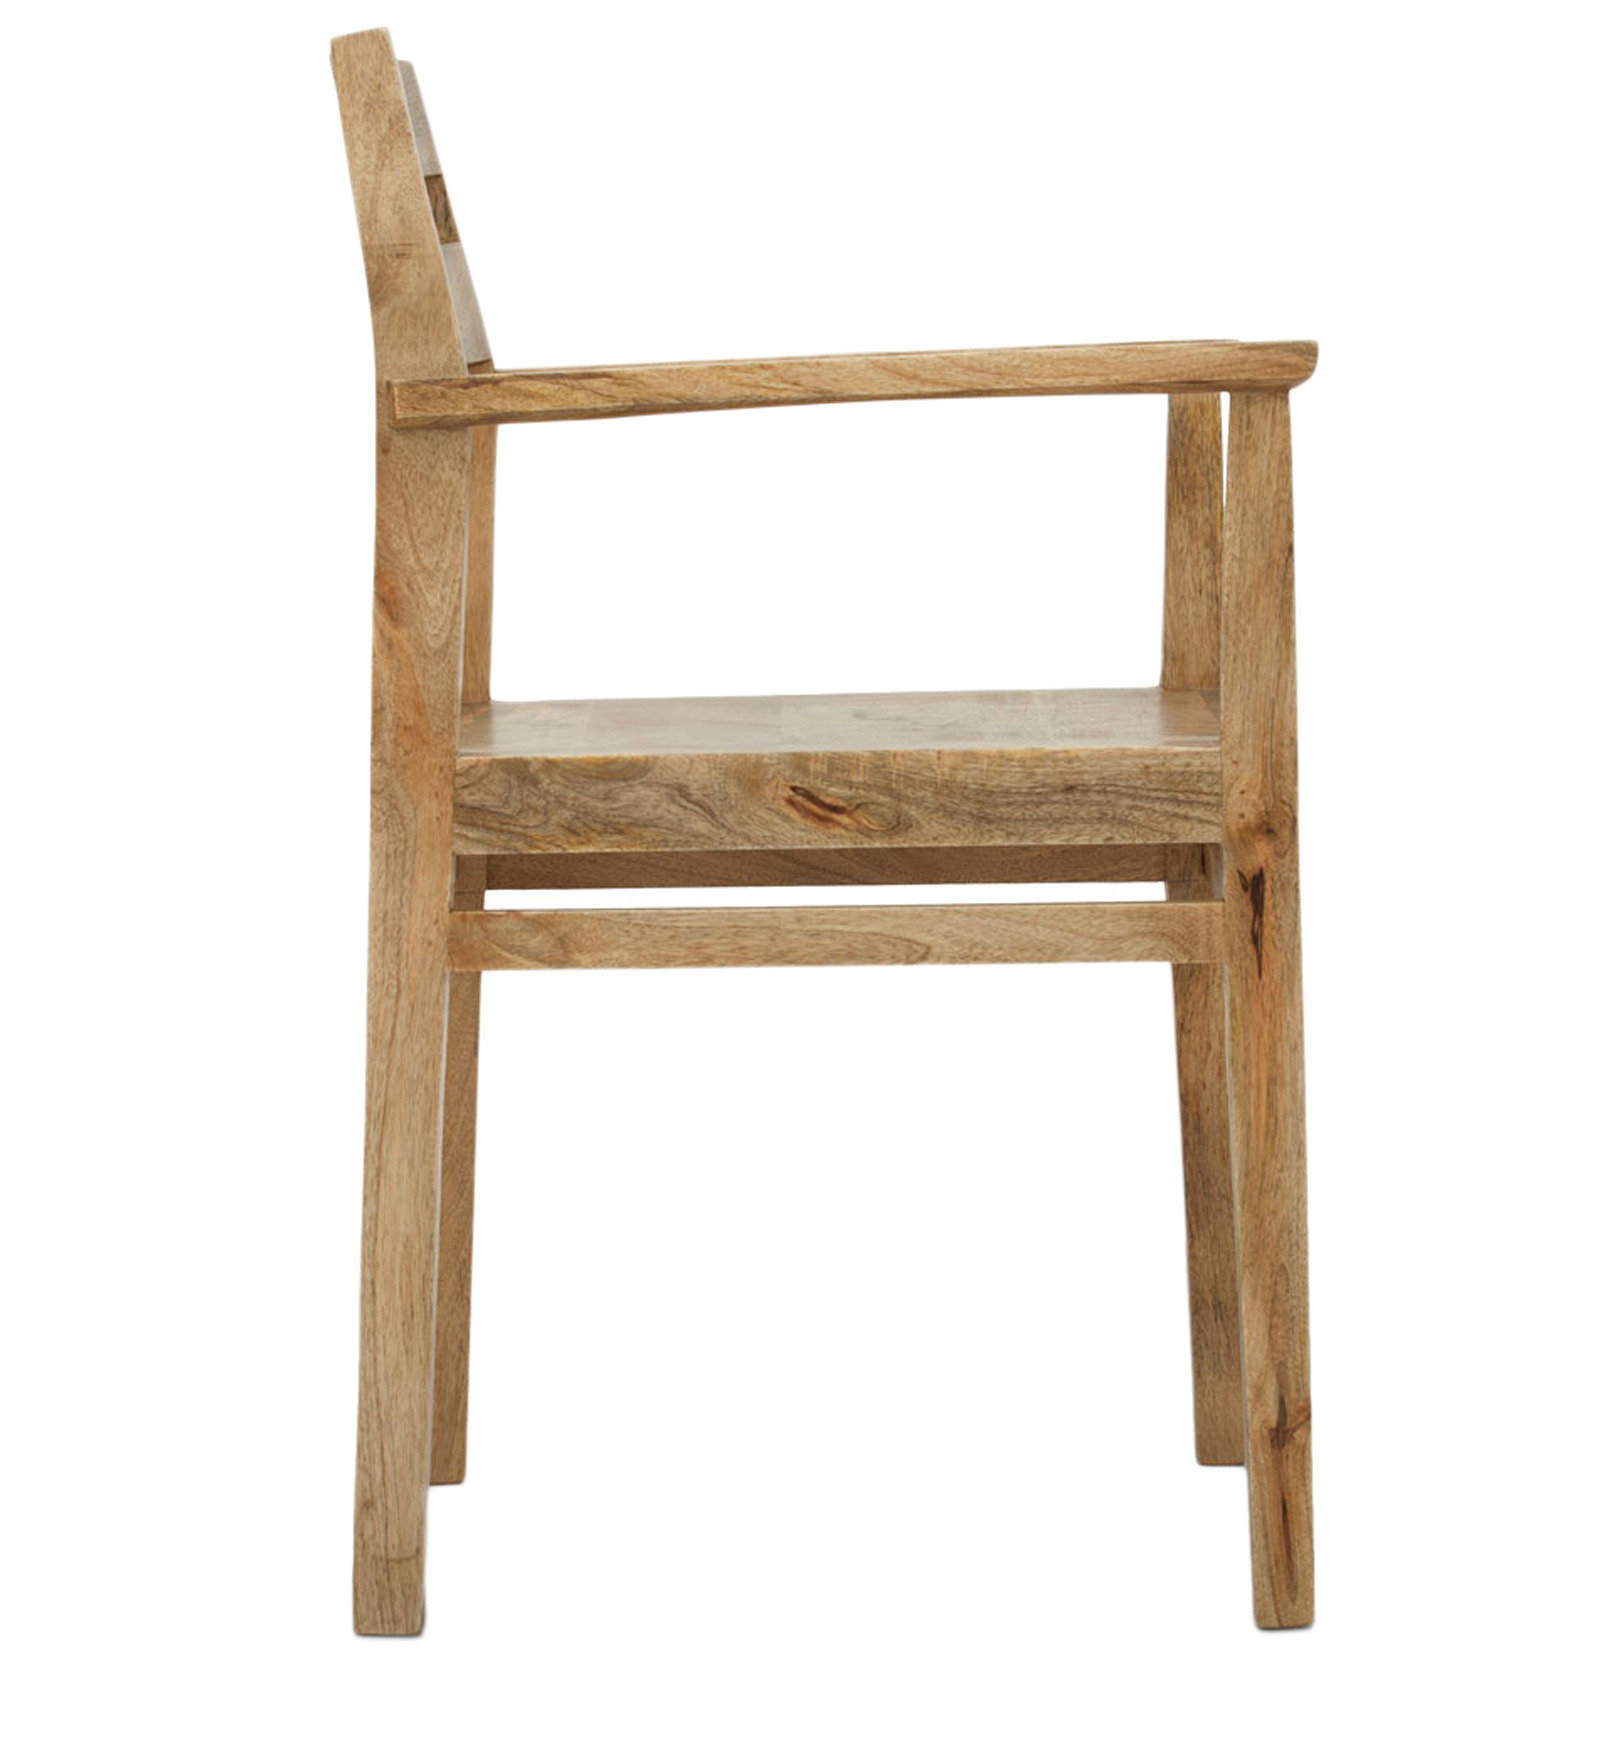Barcelona Solid Wood Arm Chair in Natural Finish by TheArmchair: (244, 28, 1372, 1677)
